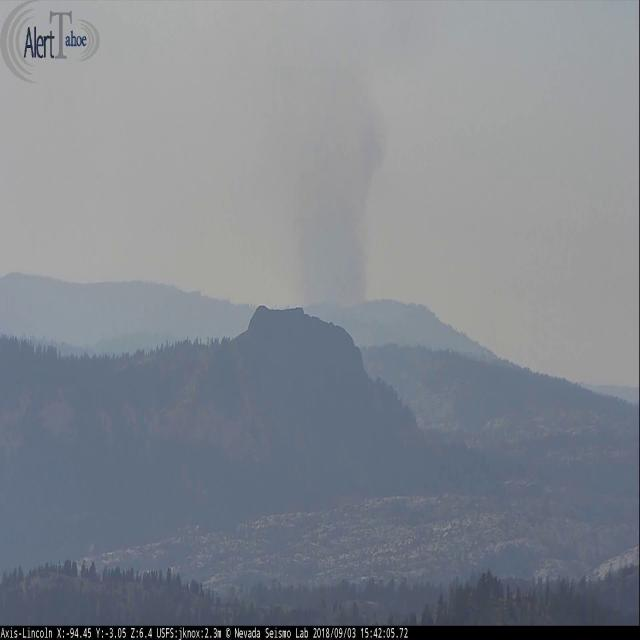smoke: (261, 62, 380, 350)
